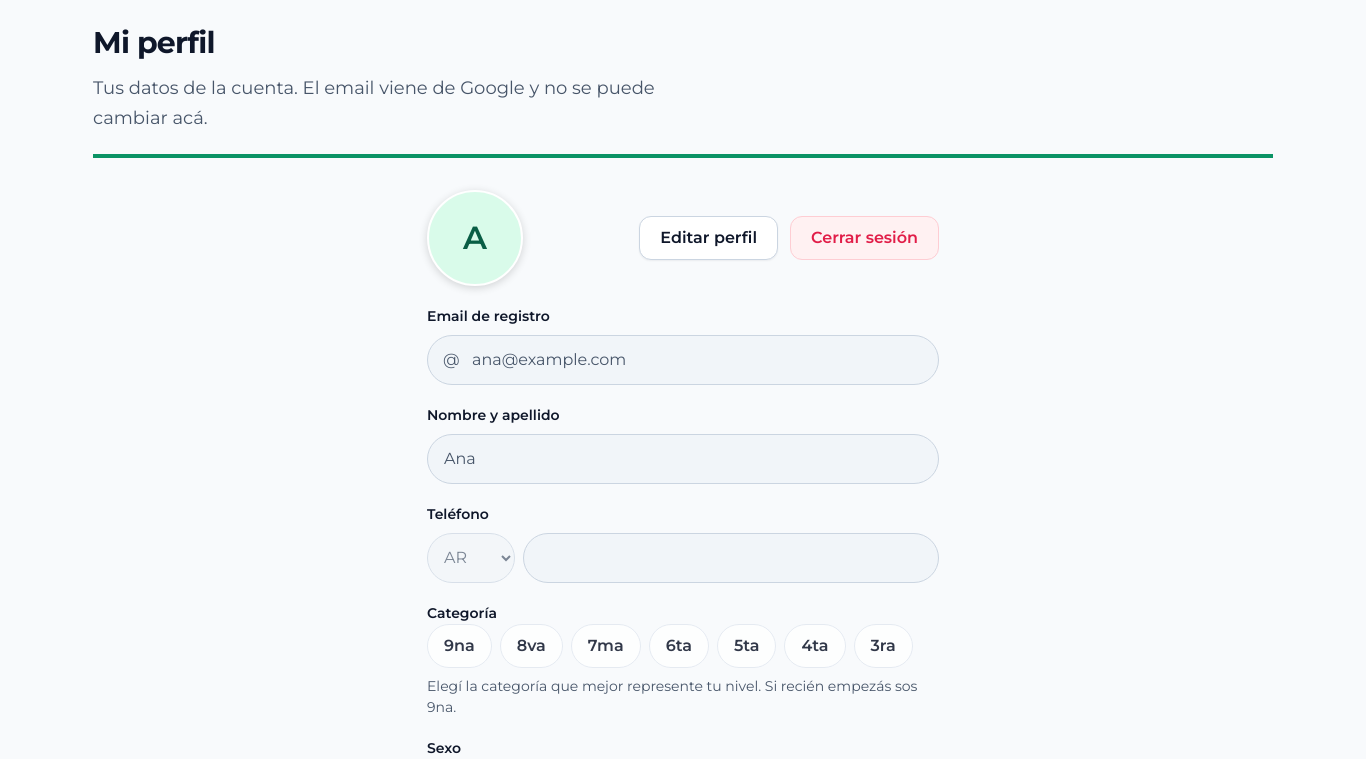
Test: ProfilePage › sends the exact name payload when saving
The image size is (1366, 759).
Click the button "Editar perfil": (709, 238) left=639, top=216, right=778, bottom=260
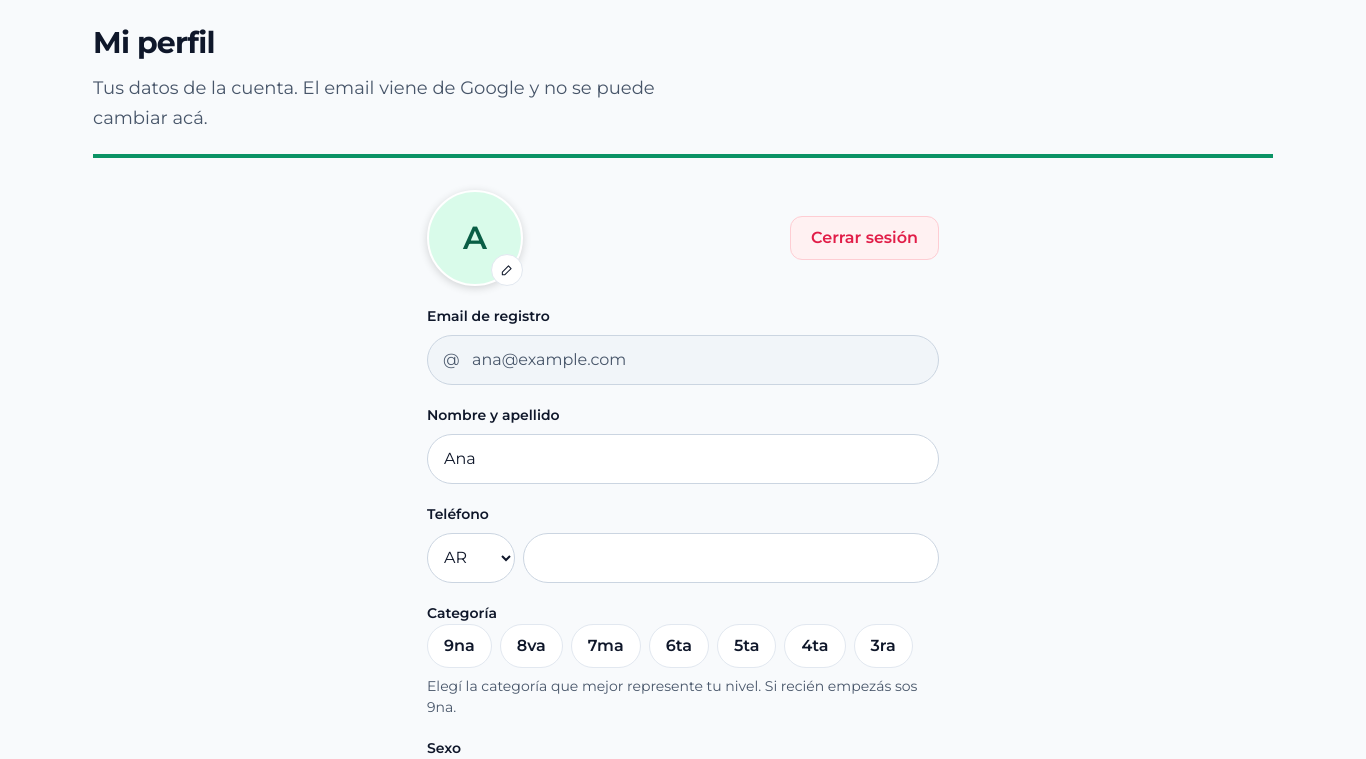
Replace the text in the field labelled "Nombre y apellido" with "  Ana Gomez  ": (683, 459) left=427, top=434, right=939, bottom=484
(page scrolled)
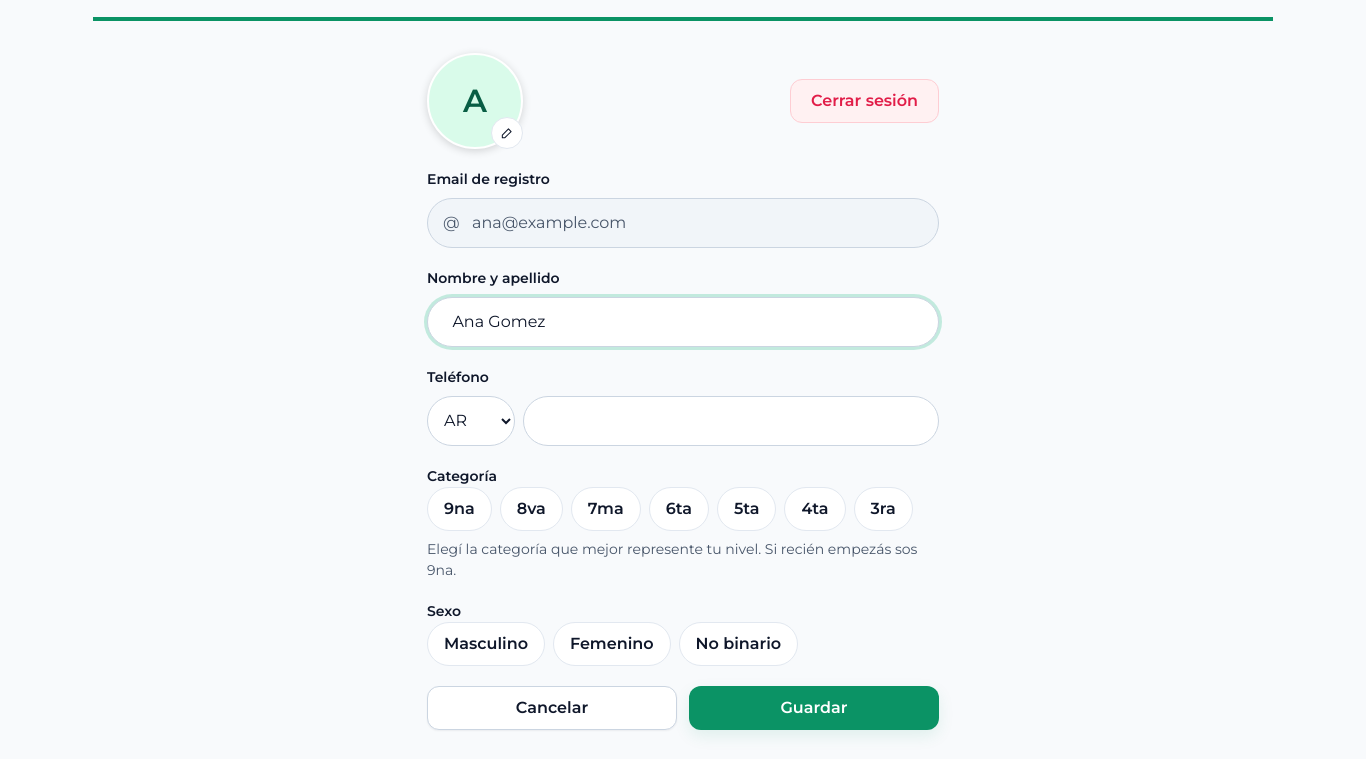
Click the button "Guardar": (814, 708) left=689, top=686, right=939, bottom=730
(page scrolled)
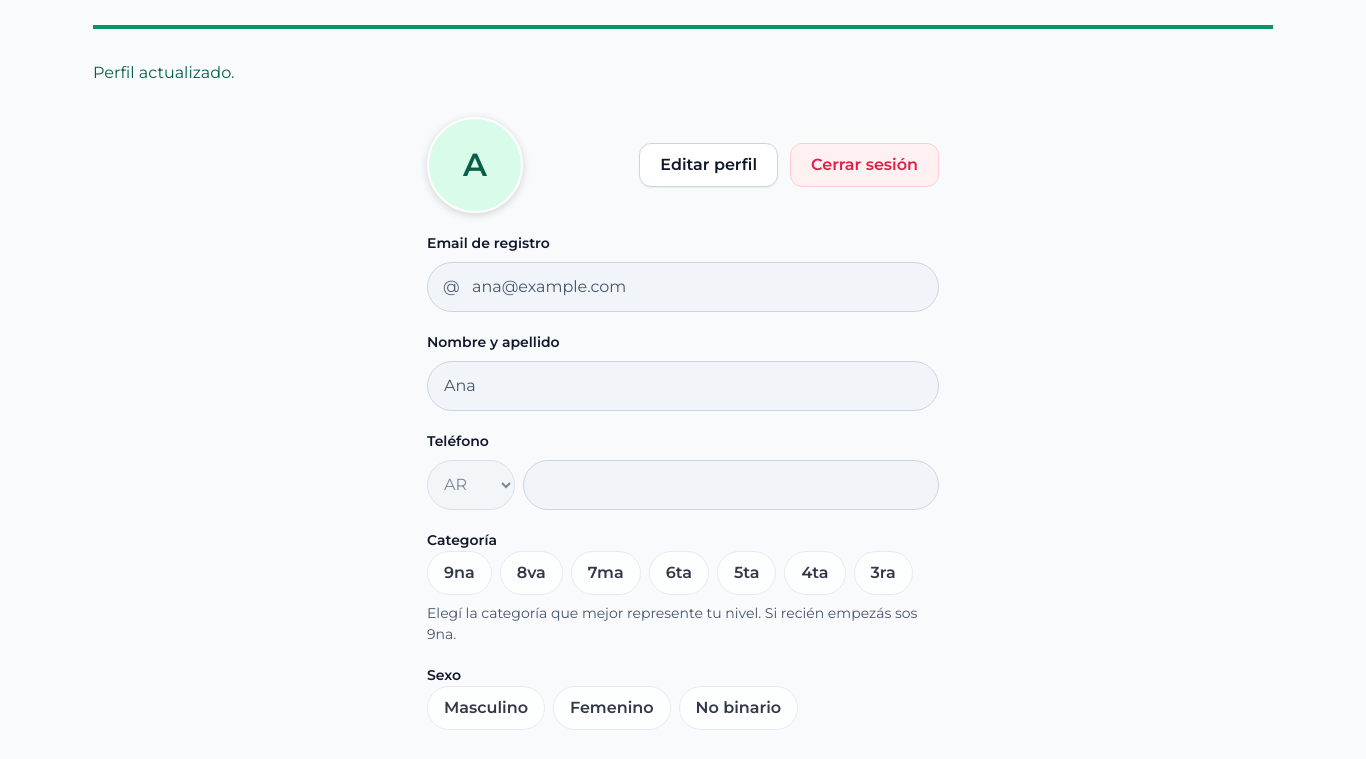
Expected: the text "Perfil actualizado." is shown, left=93, top=63, right=234, bottom=82
